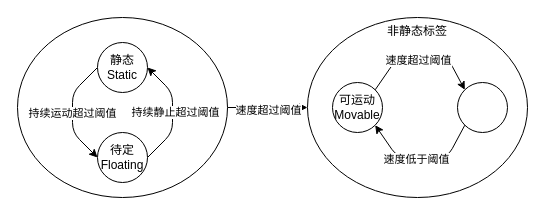
This 545x215 diagram has some shape labels left out. Here are the shapes that lost their labels. From the top down, the box of each, then its label:
(16, 16, 228, 198): 非运动标签
(456, 82, 508, 132): 运动中 Moving
